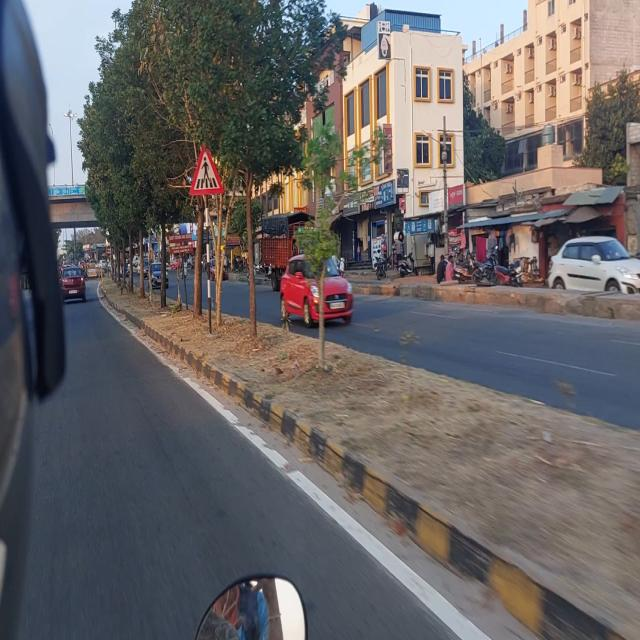bien_cam: (189, 137, 223, 197)
